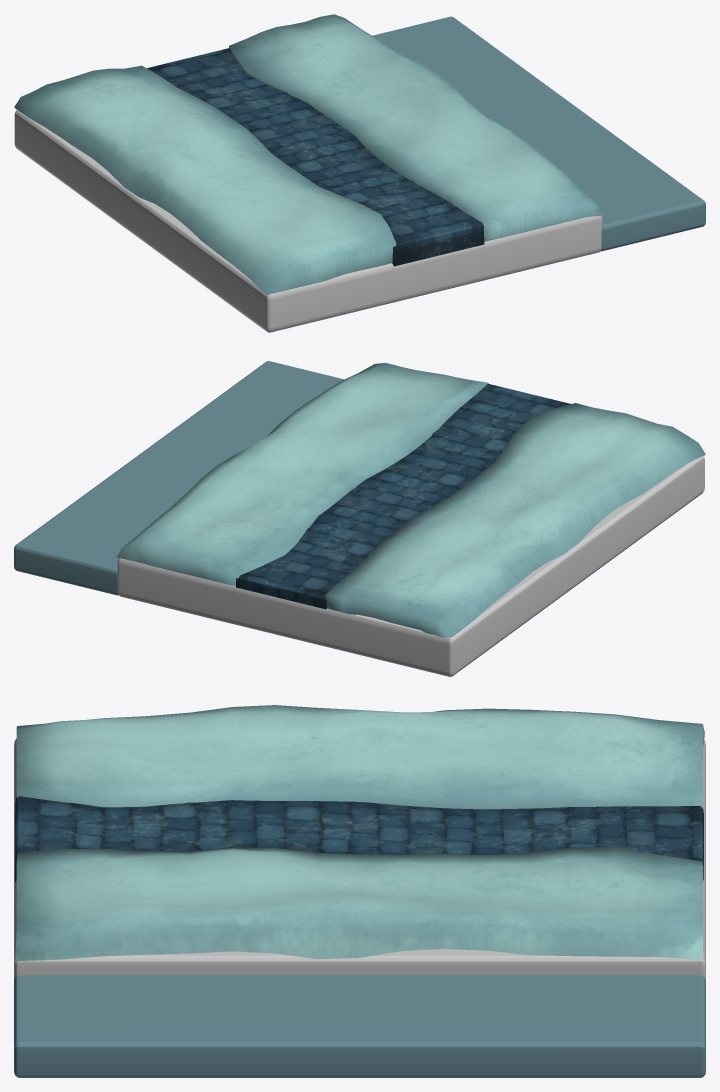
Rendered from SM_FloorPath.fbx.
3 renders of one model, top to bottom at view 1: azimuth 30°, elevation 25°; view 2: azimuth 150°, elevation 25°; view 3: azimuth 270°, elevation 25°, orthographic. The views are drawn at different scales.
Visible parts, largest first — view 1: SM_Snow, SM_Snow2, SM_Base, SM_River, SM_StonePath; view 2: SM_Snow, SM_Snow2, SM_Base, SM_River, SM_StonePath; view 3: SM_Snow2, SM_River, SM_Snow, SM_StonePath, SM_Base.
Part boxes in pixels (x1=…): SM_Snow: x1=14, y1=65, x2=396, y2=294; SM_Snow2: x1=229, y1=14, x2=602, y2=241; SM_Base: x1=14, y1=110, x2=602, y2=332; SM_River: x1=372, y1=16, x2=705, y2=251; SM_StonePath: x1=147, y1=48, x2=484, y2=266; SM_Snow: x1=325, y1=403, x2=705, y2=637; SM_Snow2: x1=116, y1=362, x2=488, y2=586; SM_Base: x1=117, y1=456, x2=704, y2=676; SM_River: x1=14, y1=361, x2=344, y2=595; SM_StonePath: x1=236, y1=383, x2=570, y2=609; SM_Snow2: x1=15, y1=847, x2=703, y2=961; SM_River: x1=14, y1=975, x2=705, y2=1077; SM_Snow: x1=16, y1=705, x2=704, y2=809; SM_StonePath: x1=15, y1=796, x2=703, y2=881; SM_Base: x1=14, y1=738, x2=705, y2=979.
Size of the model in its own units: 25.06 by 3.87 by 25.07.
